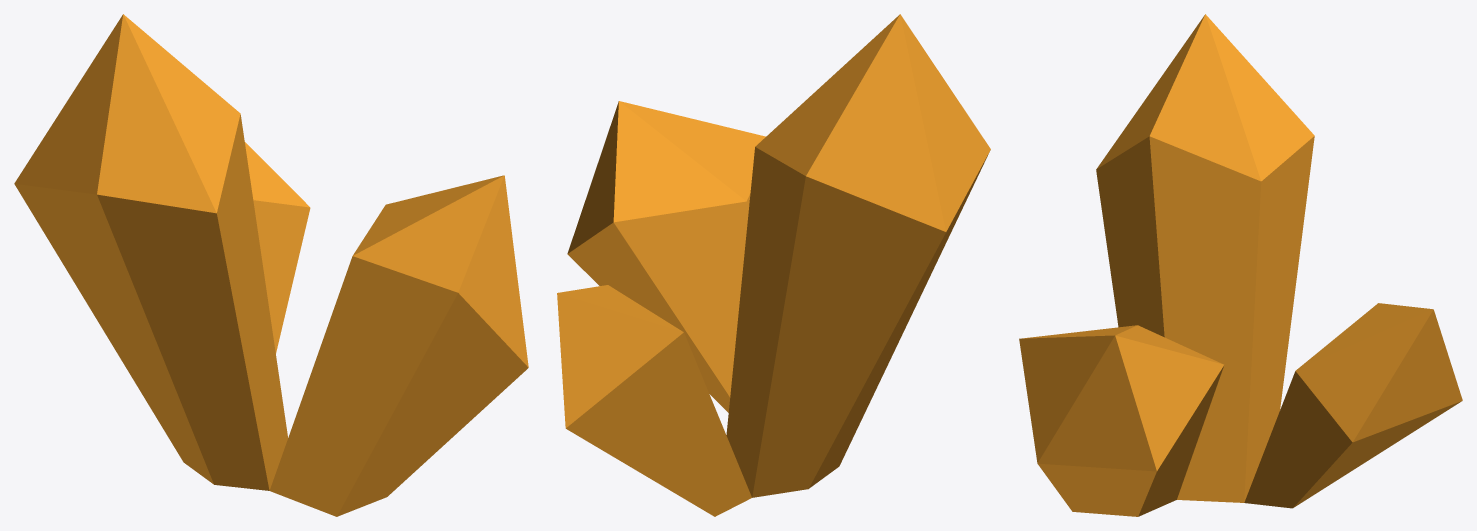
Rendered from Crystal-B03.fbx.
The picture shows the model from 3 angles, left to right: view 1: azimuth 30°, elevation 25°; view 2: azimuth 150°, elevation 25°; view 3: azimuth 270°, elevation 25°; orthographic projection. The views are drawn at different scales.
Parts seen in each view (by area): view 1: Crystal-B03; view 2: Crystal-B03; view 3: Crystal-B03.
Boxes of the visible parts, x1,y1,x2,y2 form: Crystal-B03: (14,14,528,516); Crystal-B03: (557,14,990,516); Crystal-B03: (1019,14,1462,516).
Bounding box in the file's own units: 76.35 × 80.94 × 76.69.
